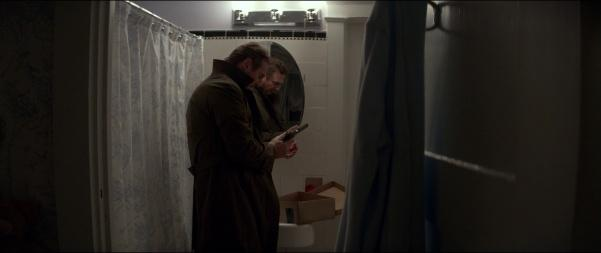Gun: (280, 123, 309, 145)
